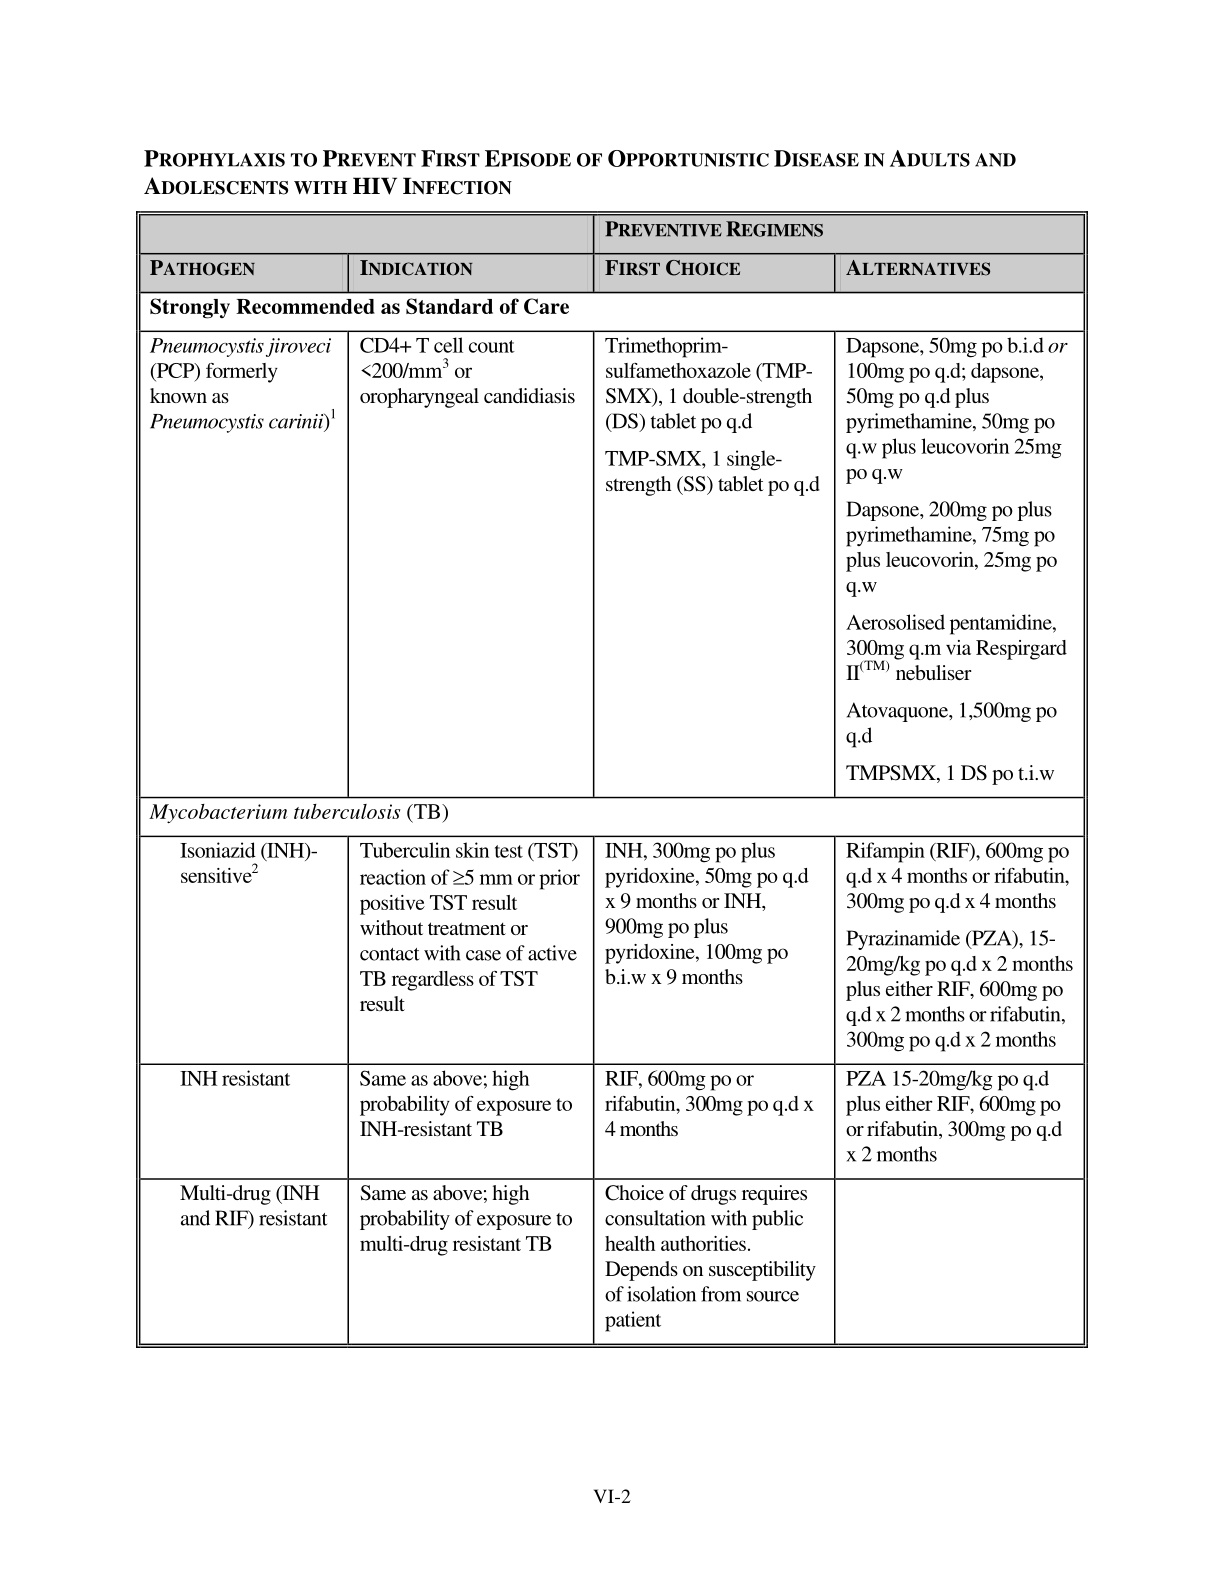merged_cells: (135, 210, 1090, 1349)
